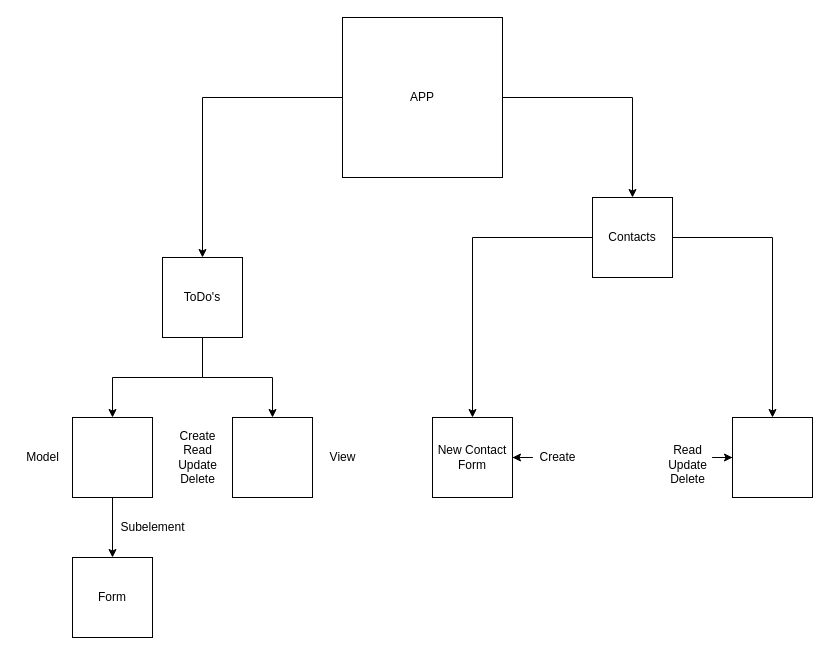
The diagram is 830 pixels wide and 655 high, and some of its shapes have lost their labels. The centre of each missing label's shape, as x and y in pixels:
Existing Contact Form: the point at 772,457
ToDo: the point at 112,457
ToDoList: the point at 272,457
